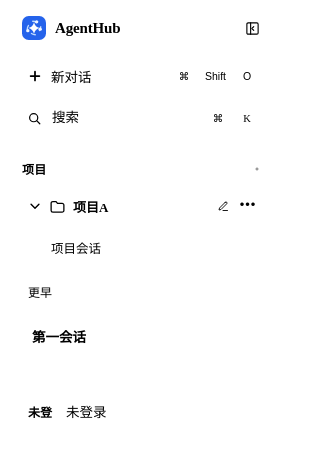
components SessionSidebar 合并冒烟(Task 5) › showAppEntries=false:入口区块隐藏,会话列表仍可用
用户菜单:设置组隐藏,语言/帮助/退出保留
Click the button with class "sidebar__user-card": (144, 411) [16,389,272,433]
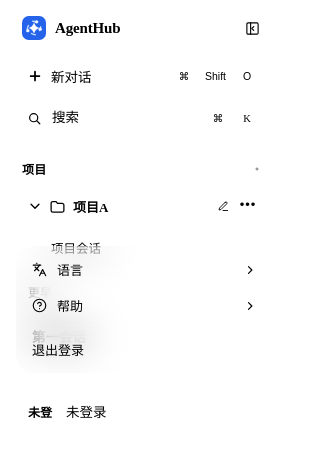
Expected: the number of elements with class "sidebar__menu-group" is 2, [22,252,266,323]; [22,332,266,367]
Expected: the text "退出登录" is shown, [32,340,84,359]
